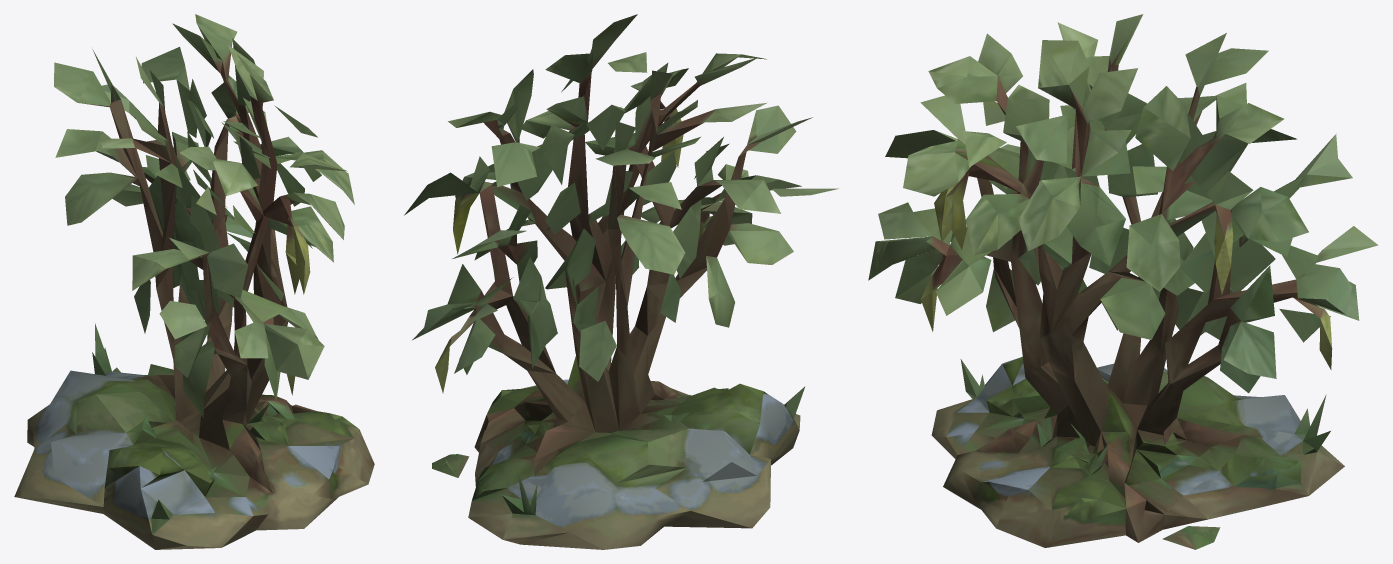
The picture shows the model from 3 angles, left to right: view 1: azimuth 30°, elevation 25°; view 2: azimuth 150°, elevation 25°; view 3: azimuth 270°, elevation 25°; orthographic projection. The views are drawn at different scales.
Parts seen in each view (by area): view 1: shrub; view 2: shrub; view 3: shrub.
Boxes of the visible parts, box(x1,y1,x2,y2) form: shrub: box(14, 14, 374, 549); shrub: box(404, 14, 838, 549); shrub: box(868, 14, 1378, 549).
Bounding box in the file's own units: 0.6979 × 0.9252 × 0.9576.
Materials: 1 (1 with a texture image).
